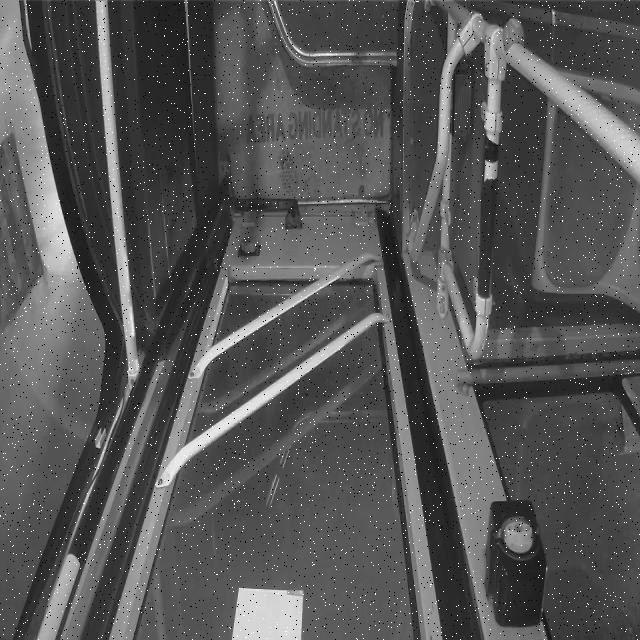open: (108, 209, 444, 639)
